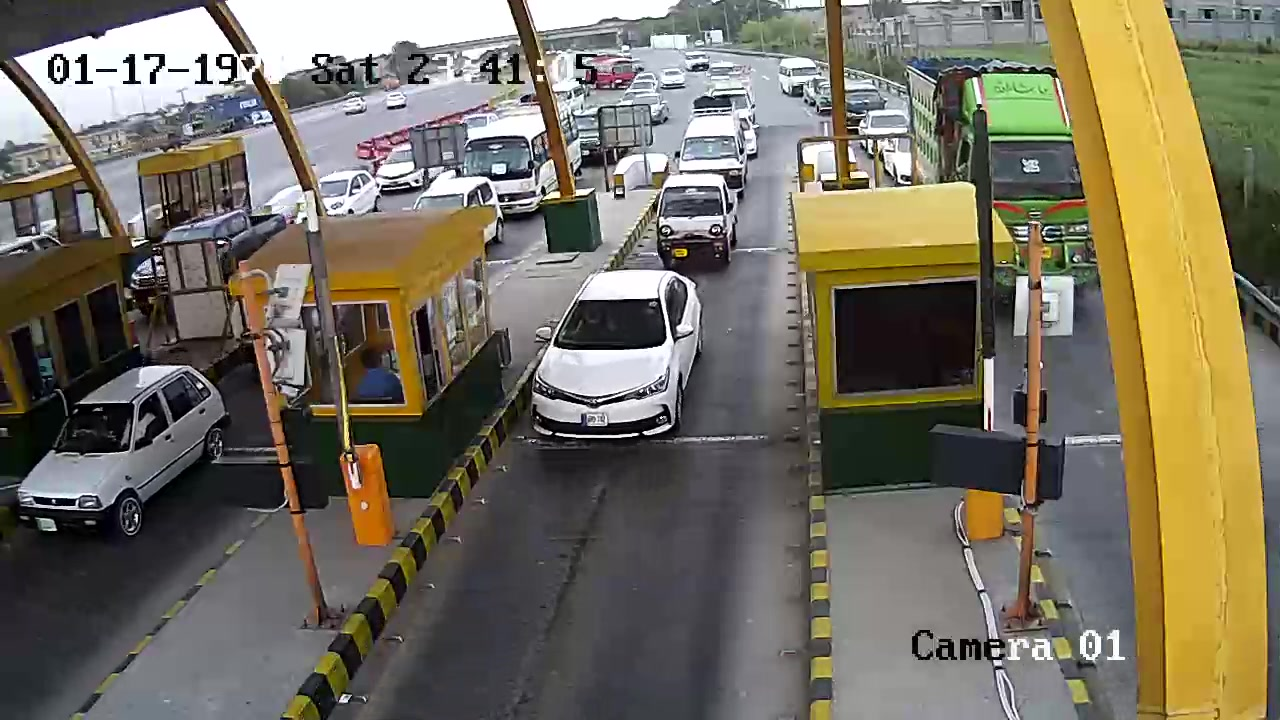F1: (523, 262, 720, 451)
